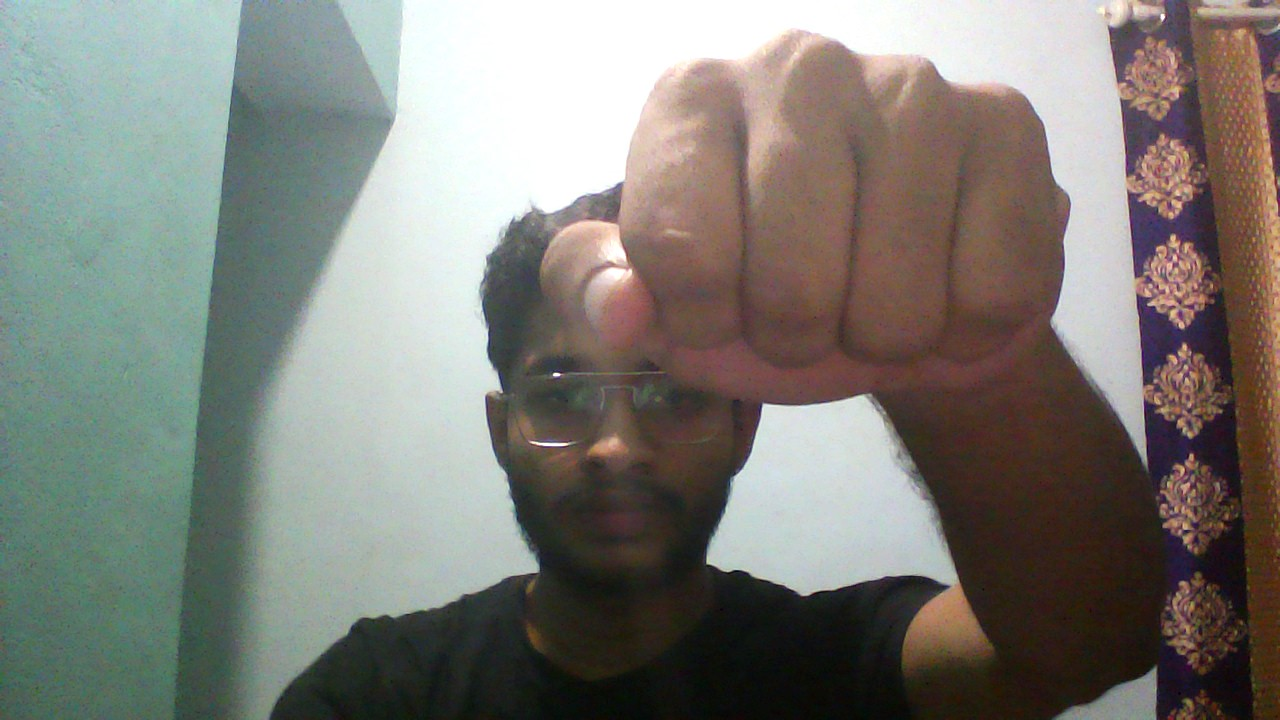Yes: (416, 24, 1099, 501)
